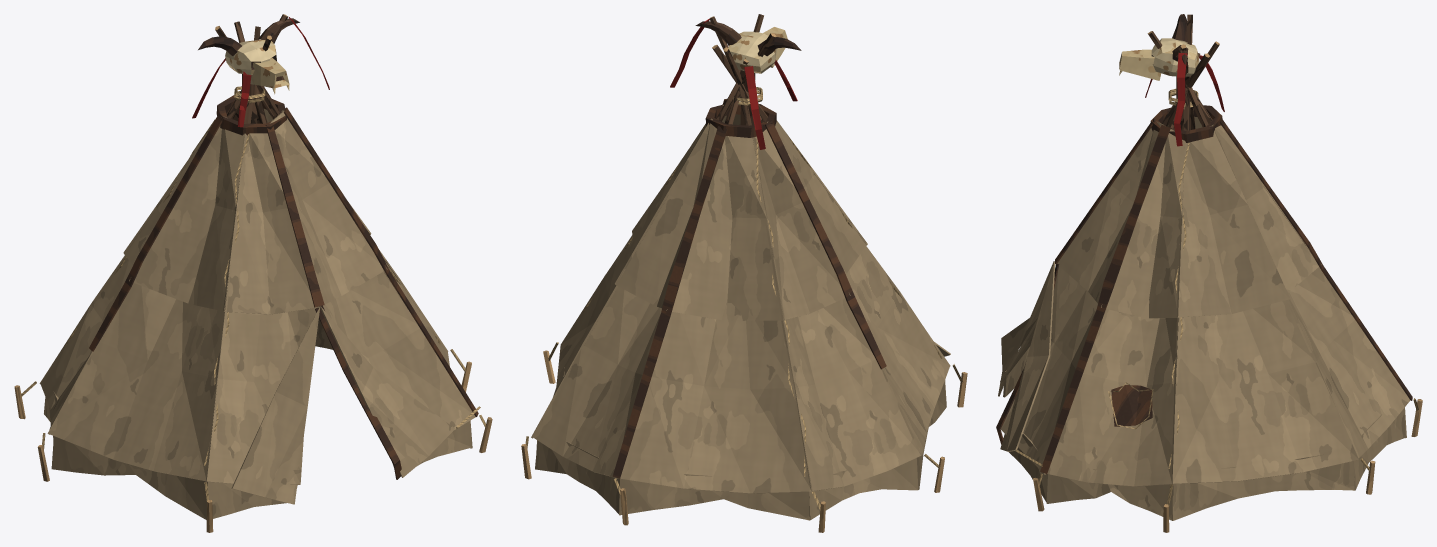
The model's file is SM_LargeEnemyTent.fbx.
3 views of the same model, side by side, from view 1: azimuth 30°, elevation 25°; view 2: azimuth 150°, elevation 25°; view 3: azimuth 270°, elevation 25° (orthographic). The views are drawn at different scales.
Parts seen in each view (by area): view 1: SM_LargeEnemyTent; view 2: SM_LargeEnemyTent; view 3: SM_LargeEnemyTent.
Boxes of the visible parts, <box> form: SM_LargeEnemyTent: <box>14,14,492,532</box>; SM_LargeEnemyTent: <box>521,14,967,532</box>; SM_LargeEnemyTent: <box>996,14,1422,532</box>.
Size of the model in its own units: 3.98 by 3.78 by 3.59.
